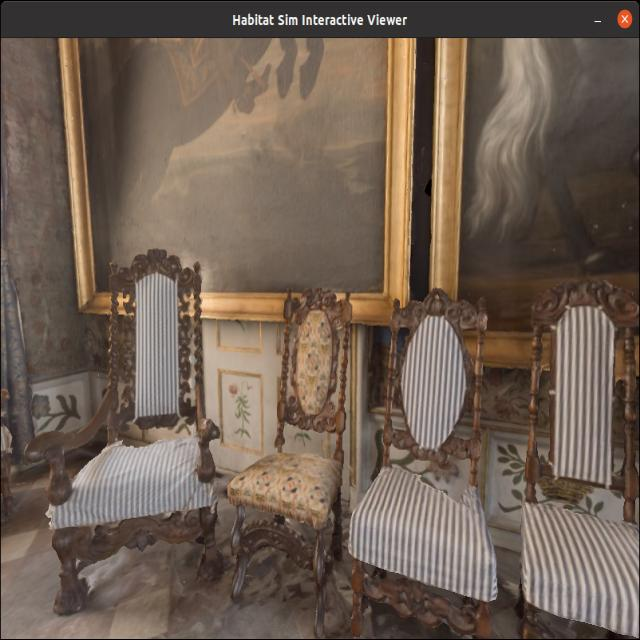chair: (48, 241, 235, 601), (352, 293, 518, 640), (503, 273, 640, 640), (225, 263, 366, 590)
